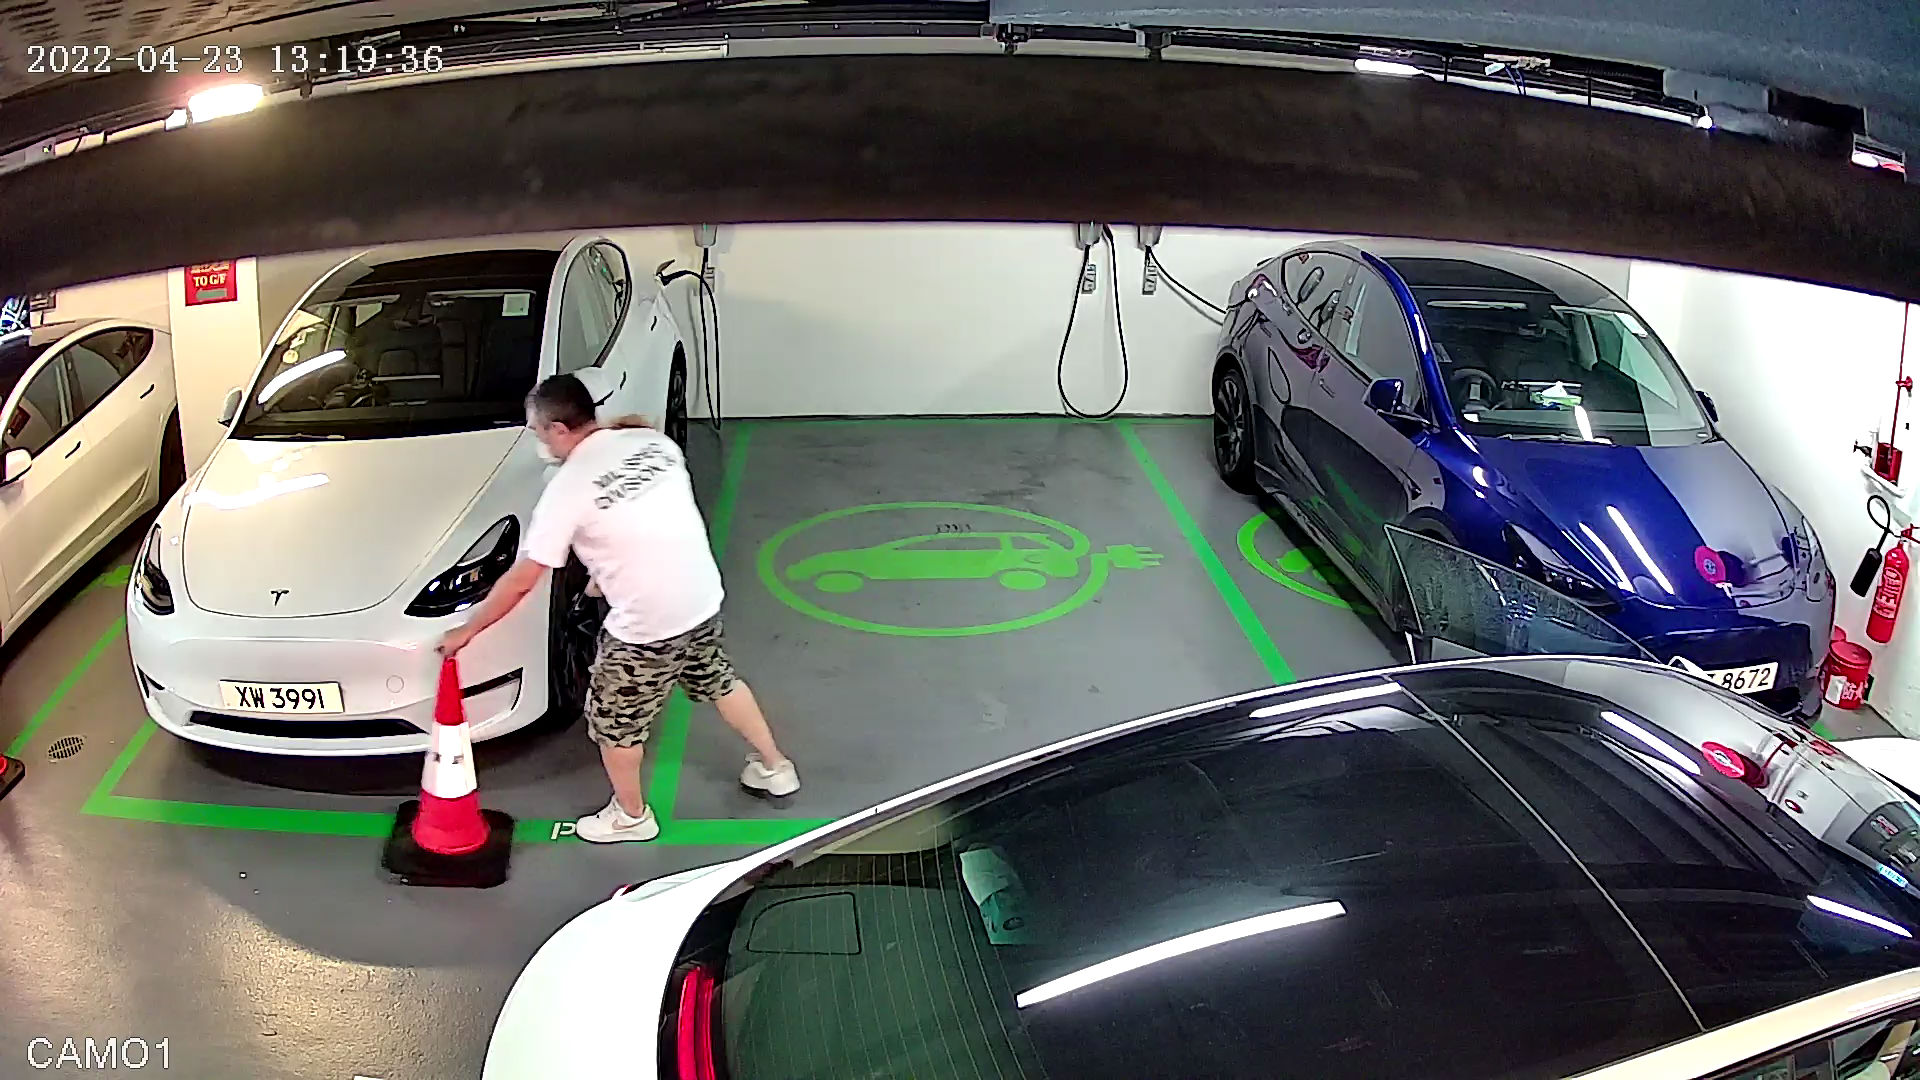car: (1195, 200, 1879, 778), (111, 220, 717, 803)
space: (618, 352, 1348, 886)
